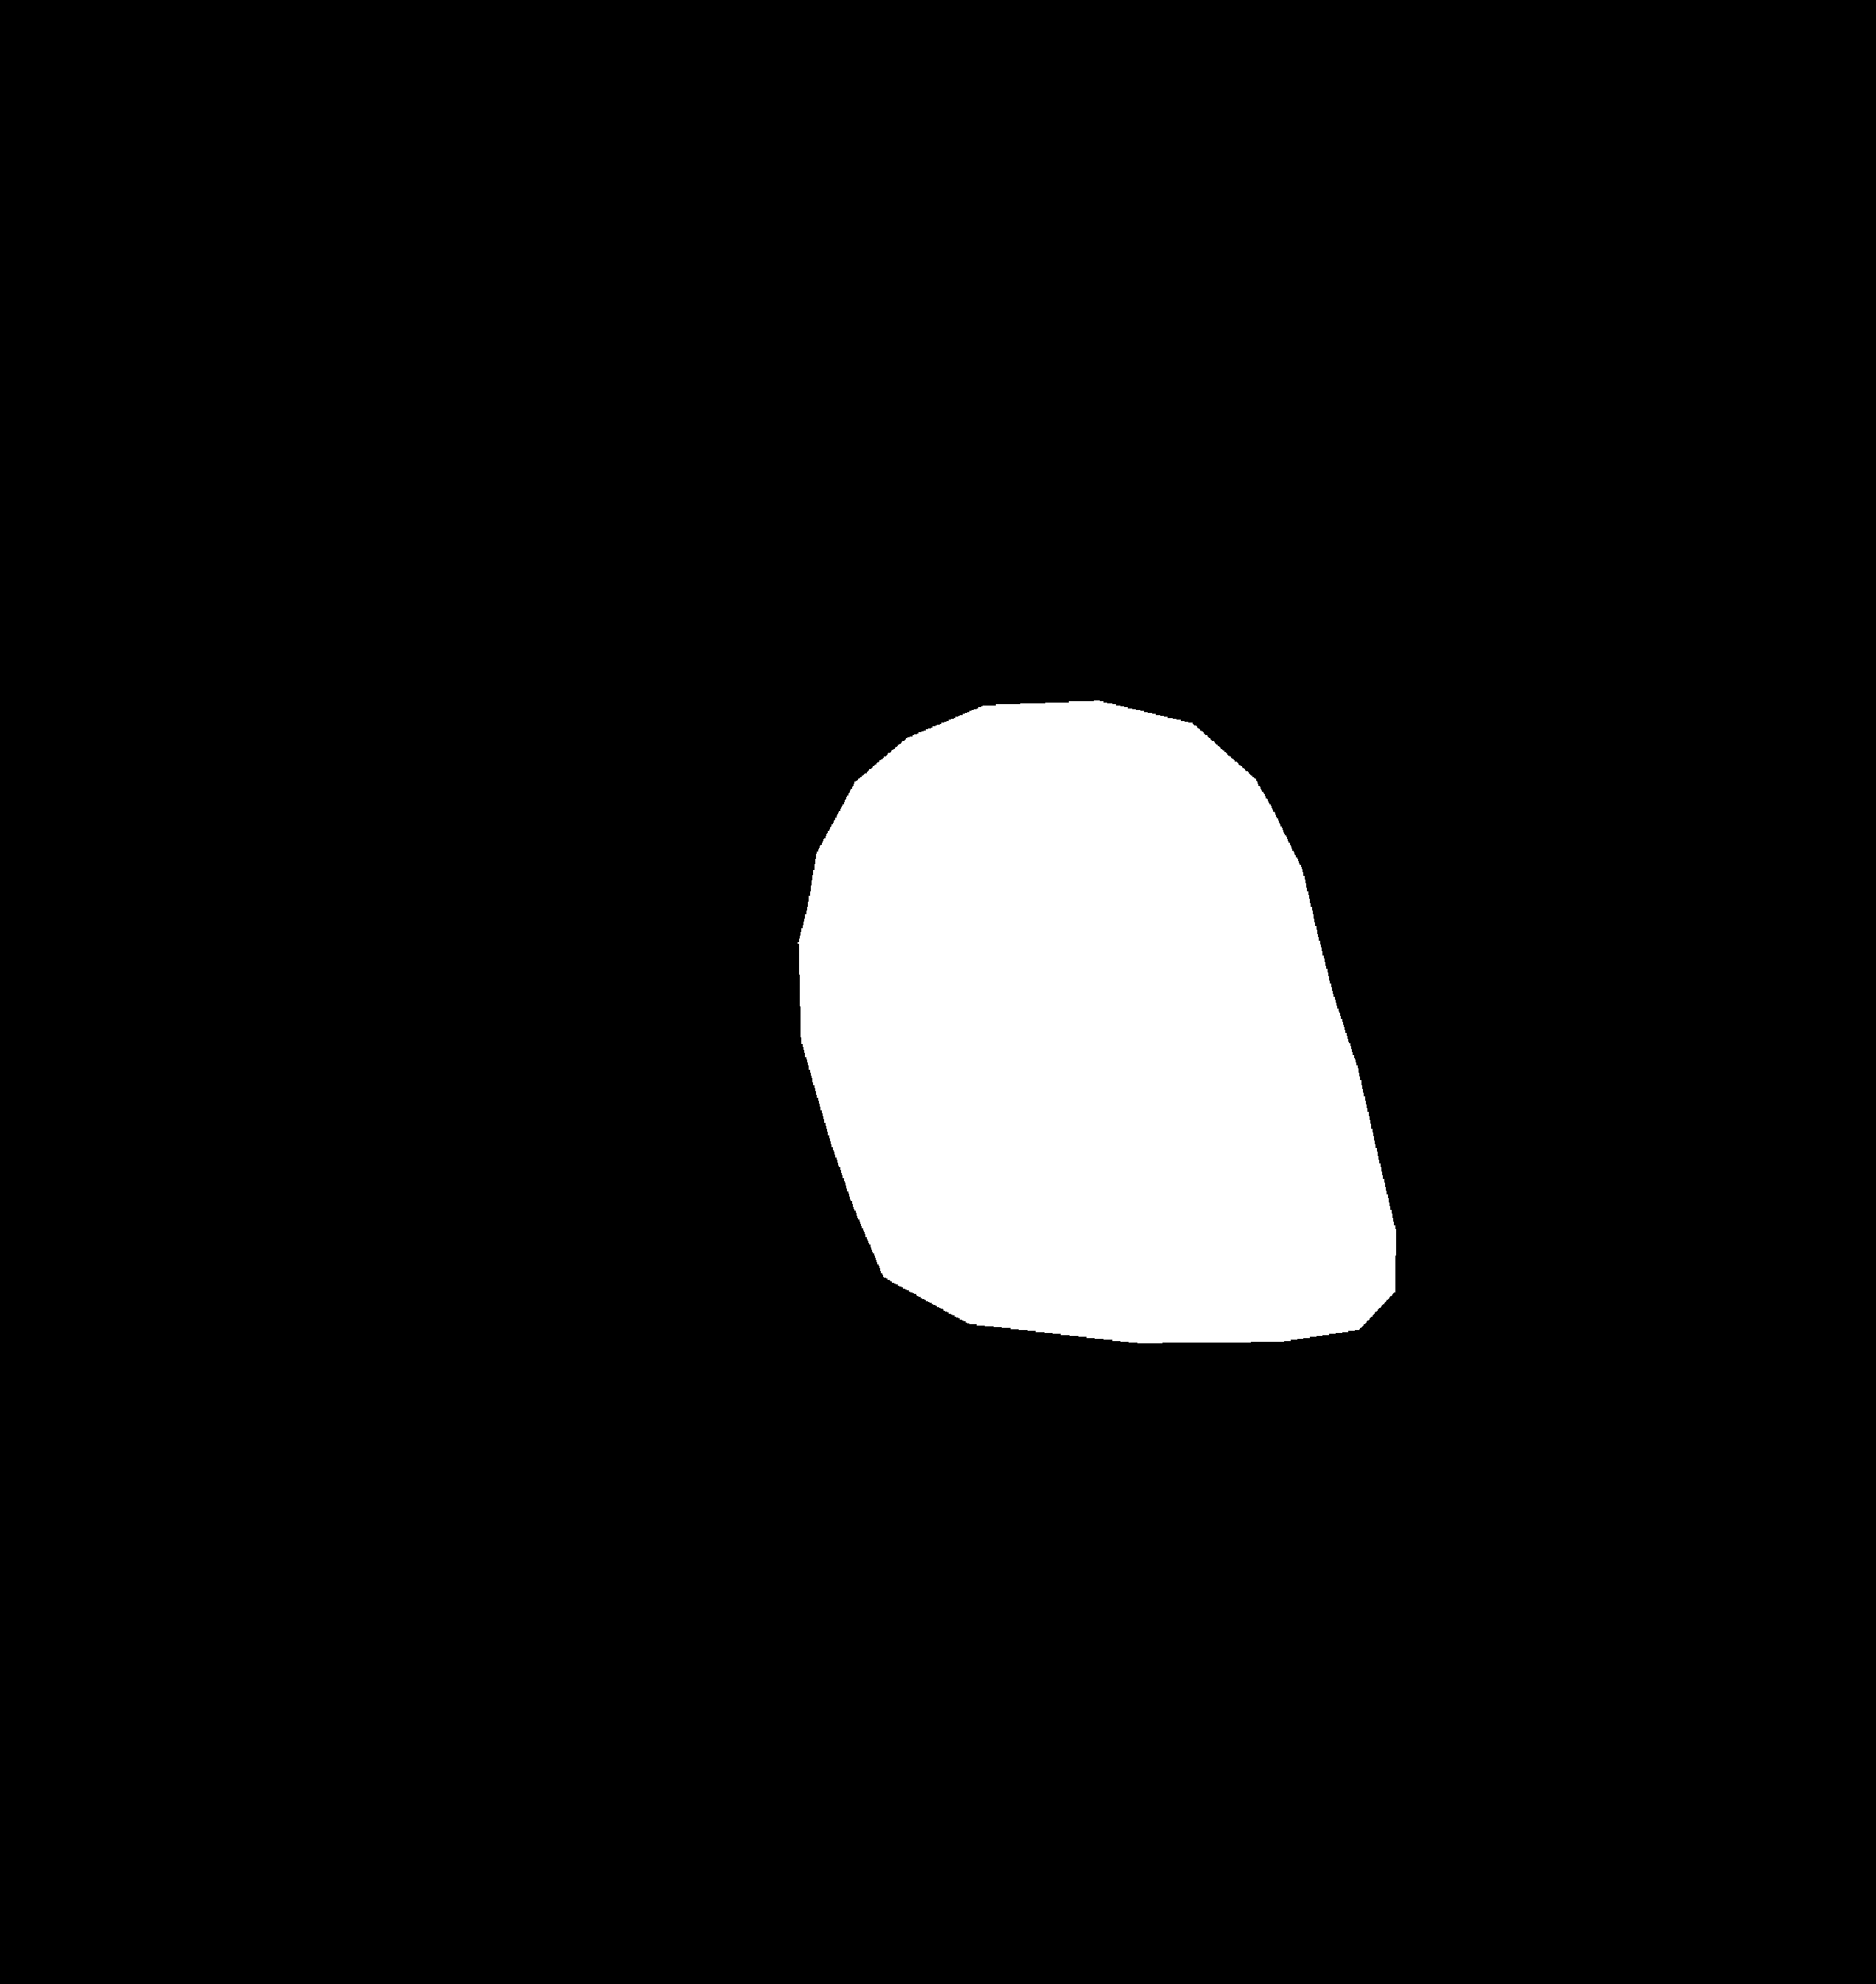heart: (806, 836, 1403, 1443)
left_lung: (171, 227, 890, 1628)
right_lung: (1023, 231, 1661, 1675)
